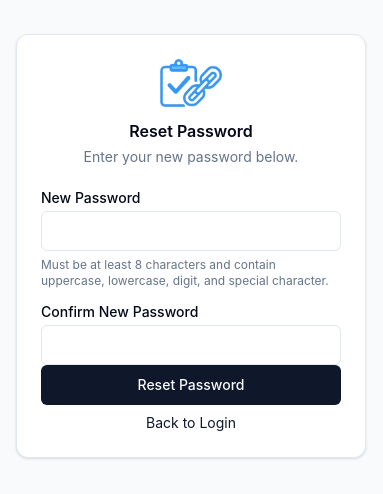
Test: ResetPassword › shows the server's password policy message for a weak new password in the card
Type "Battery-Staple" into the password field labelled "New Password". click: {"x": 191, "y": 231}
box: left=41, top=211, right=341, bottom=251
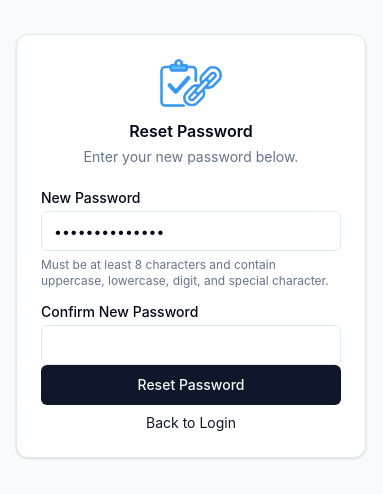
Type "Battery-Staple" into the password field labelled "Confirm New Password". click: {"x": 191, "y": 345}
box: left=41, top=325, right=341, bottom=365
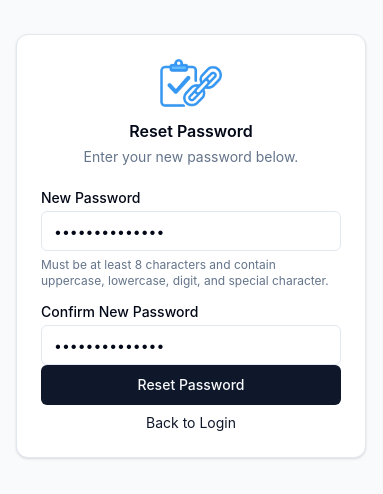
Click the button "Reset Password". click: {"x": 191, "y": 385}
box: left=41, top=365, right=341, bottom=405
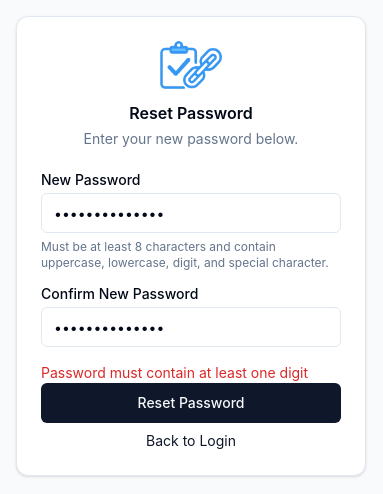
Result: the message reads "Password must contain at least one digit" at left=41, top=364, right=308, bottom=381
